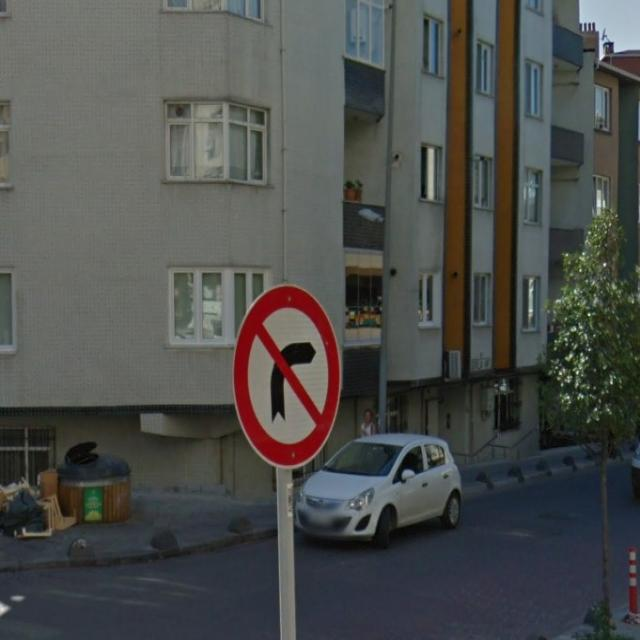sagadonulmez: (233, 282, 342, 470)
